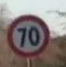limite 70: (7, 13, 50, 56)
